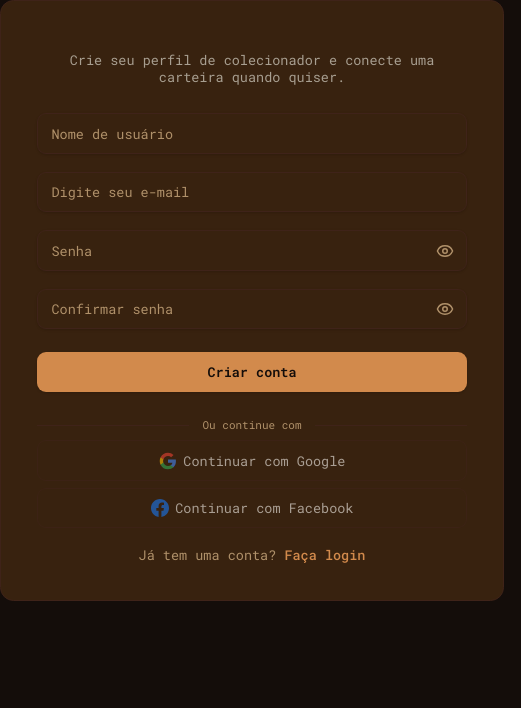
Test: Formulário de Cadastro (src/features/auth/RegisterForm.tsx) › deve validar campos obrigatórios ao submeter formulário vazio
The image size is (521, 708).
Click the submit button.
click(252, 372)  # box left=37, top=352, right=467, bottom=392
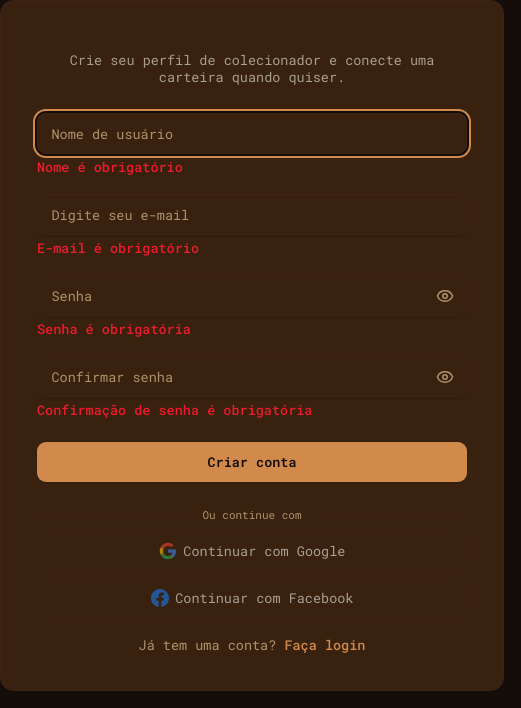
Result: the message with id "register-name-error" reads "Nome é obrigatório" at left=37, top=158, right=183, bottom=176
Result: the message with id "register-email-error" reads "E-mail é obrigatório" at left=37, top=240, right=199, bottom=258
Result: the message with id "register-password-error" reads "Senha é obrigatória" at left=37, top=320, right=191, bottom=338
